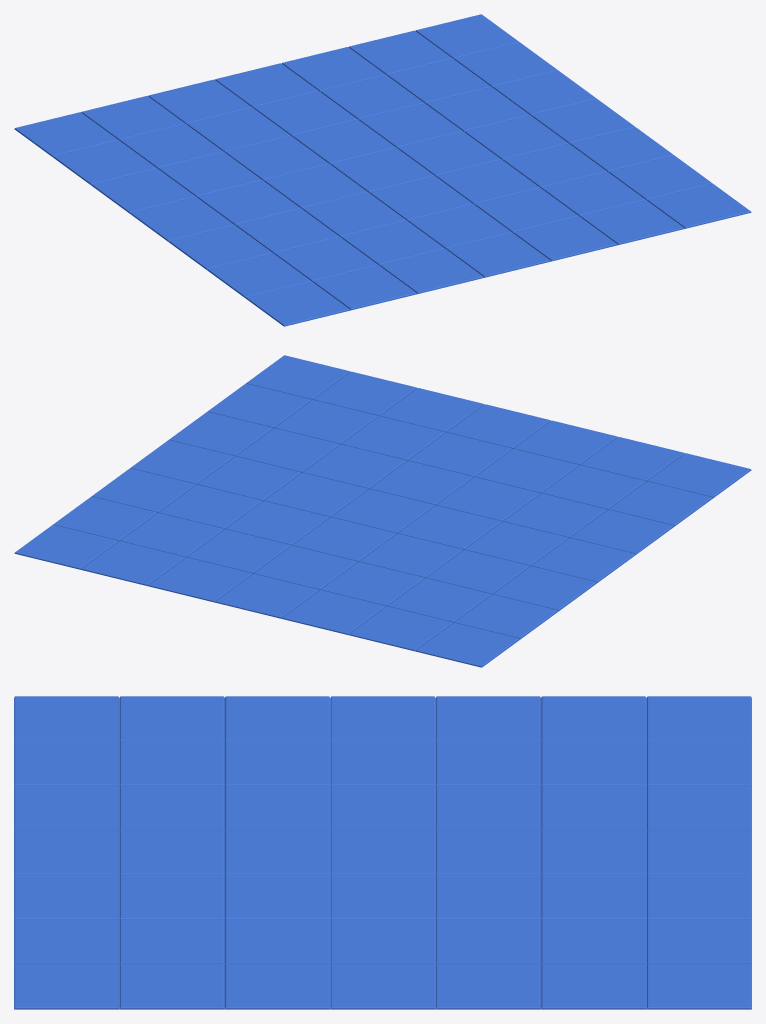
The model's file is GymFloor.fbx.
3 renders of one model, top to bottom at view 1: azimuth 30°, elevation 25°; view 2: azimuth 150°, elevation 25°; view 3: azimuth 270°, elevation 25°, orthographic. The views are drawn at different scales.
Parts seen in each view (by area): view 1: GymFloor; view 2: GymFloor; view 3: GymFloor.
Boxes of the visible parts, x1,y1,x2,y2 form: GymFloor: (14, 14, 751, 326); GymFloor: (14, 355, 751, 667); GymFloor: (14, 696, 751, 1009).
Bounding box in the file's own units: 578 × 1.51 × 578.
